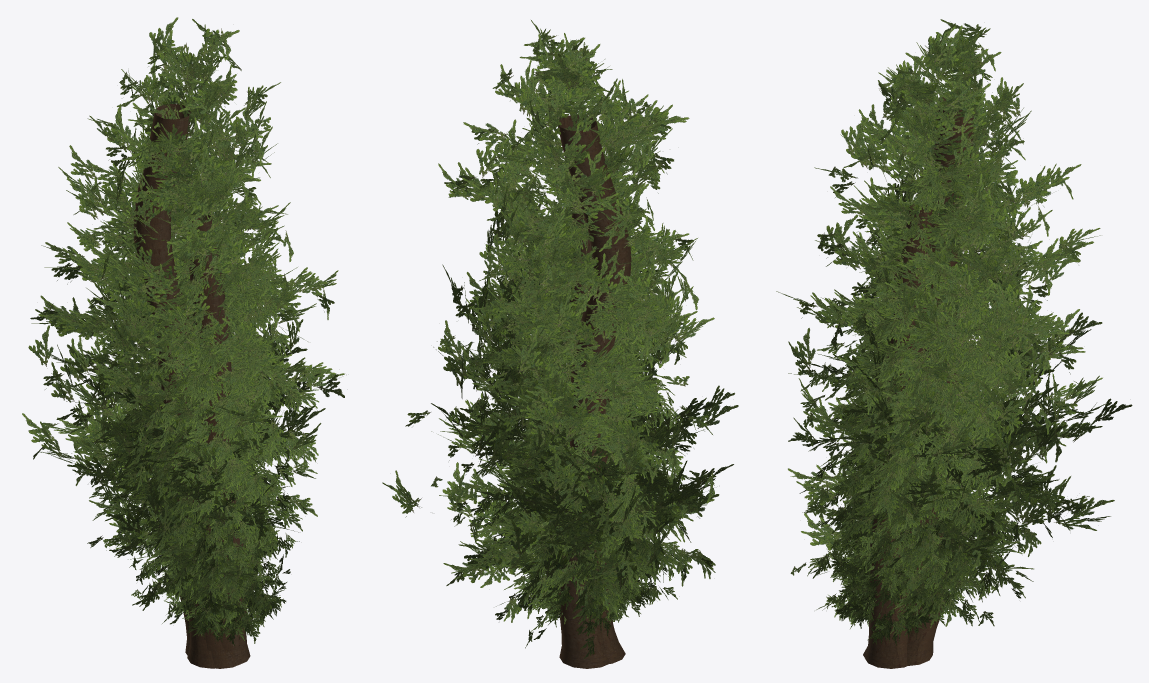
Rendered from hemlock.glb.
3 renders of one model, left to right at view 1: azimuth 30°, elevation 25°; view 2: azimuth 150°, elevation 25°; view 3: azimuth 270°, elevation 25°, orthographic. The views are drawn at different scales.
Parts seen in each view (by area): view 1: tree3_lod0, tree5_lod0, tree4_lod0, tree2_lod0, tree0_lod0, tree1_lod0; view 2: tree3_lod0, tree5_lod0, tree4_lod0, tree2_lod0, tree0_lod0; view 3: tree3_lod0, tree5_lod0, tree4_lod0, tree0_lod0, tree2_lod0.
Part boxes in pixels (bbox=[...]): tree3_lod0: bbox=[22, 17, 344, 655]; tree5_lod0: bbox=[87, 153, 317, 668]; tree4_lod0: bbox=[99, 269, 318, 668]; tree2_lod0: bbox=[114, 395, 299, 643]; tree0_lod0: bbox=[164, 433, 290, 665]; tree1_lod0: bbox=[173, 584, 255, 640]; tree3_lod0: bbox=[382, 20, 738, 668]; tree5_lod0: bbox=[446, 155, 696, 663]; tree4_lod0: bbox=[463, 265, 715, 621]; tree2_lod0: bbox=[489, 396, 686, 658]; tree0_lod0: bbox=[533, 514, 655, 635]; tree3_lod0: bbox=[776, 19, 1132, 665]; tree5_lod0: bbox=[800, 152, 1041, 605]; tree4_lod0: bbox=[788, 256, 1021, 656]; tree0_lod0: bbox=[824, 448, 956, 668]; tree2_lod0: bbox=[810, 395, 994, 628].
Size of what is drawn, in the model's own units: 10.78 by 22.29 by 11.46.
Materials: 2 (2 with a texture image).
